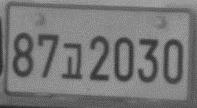0: (113, 36, 134, 82), (163, 39, 184, 84)
2: (86, 36, 110, 81)
3: (138, 38, 158, 82)
7: (37, 33, 59, 78)
8: (11, 31, 34, 77)
고: (59, 42, 83, 81)
